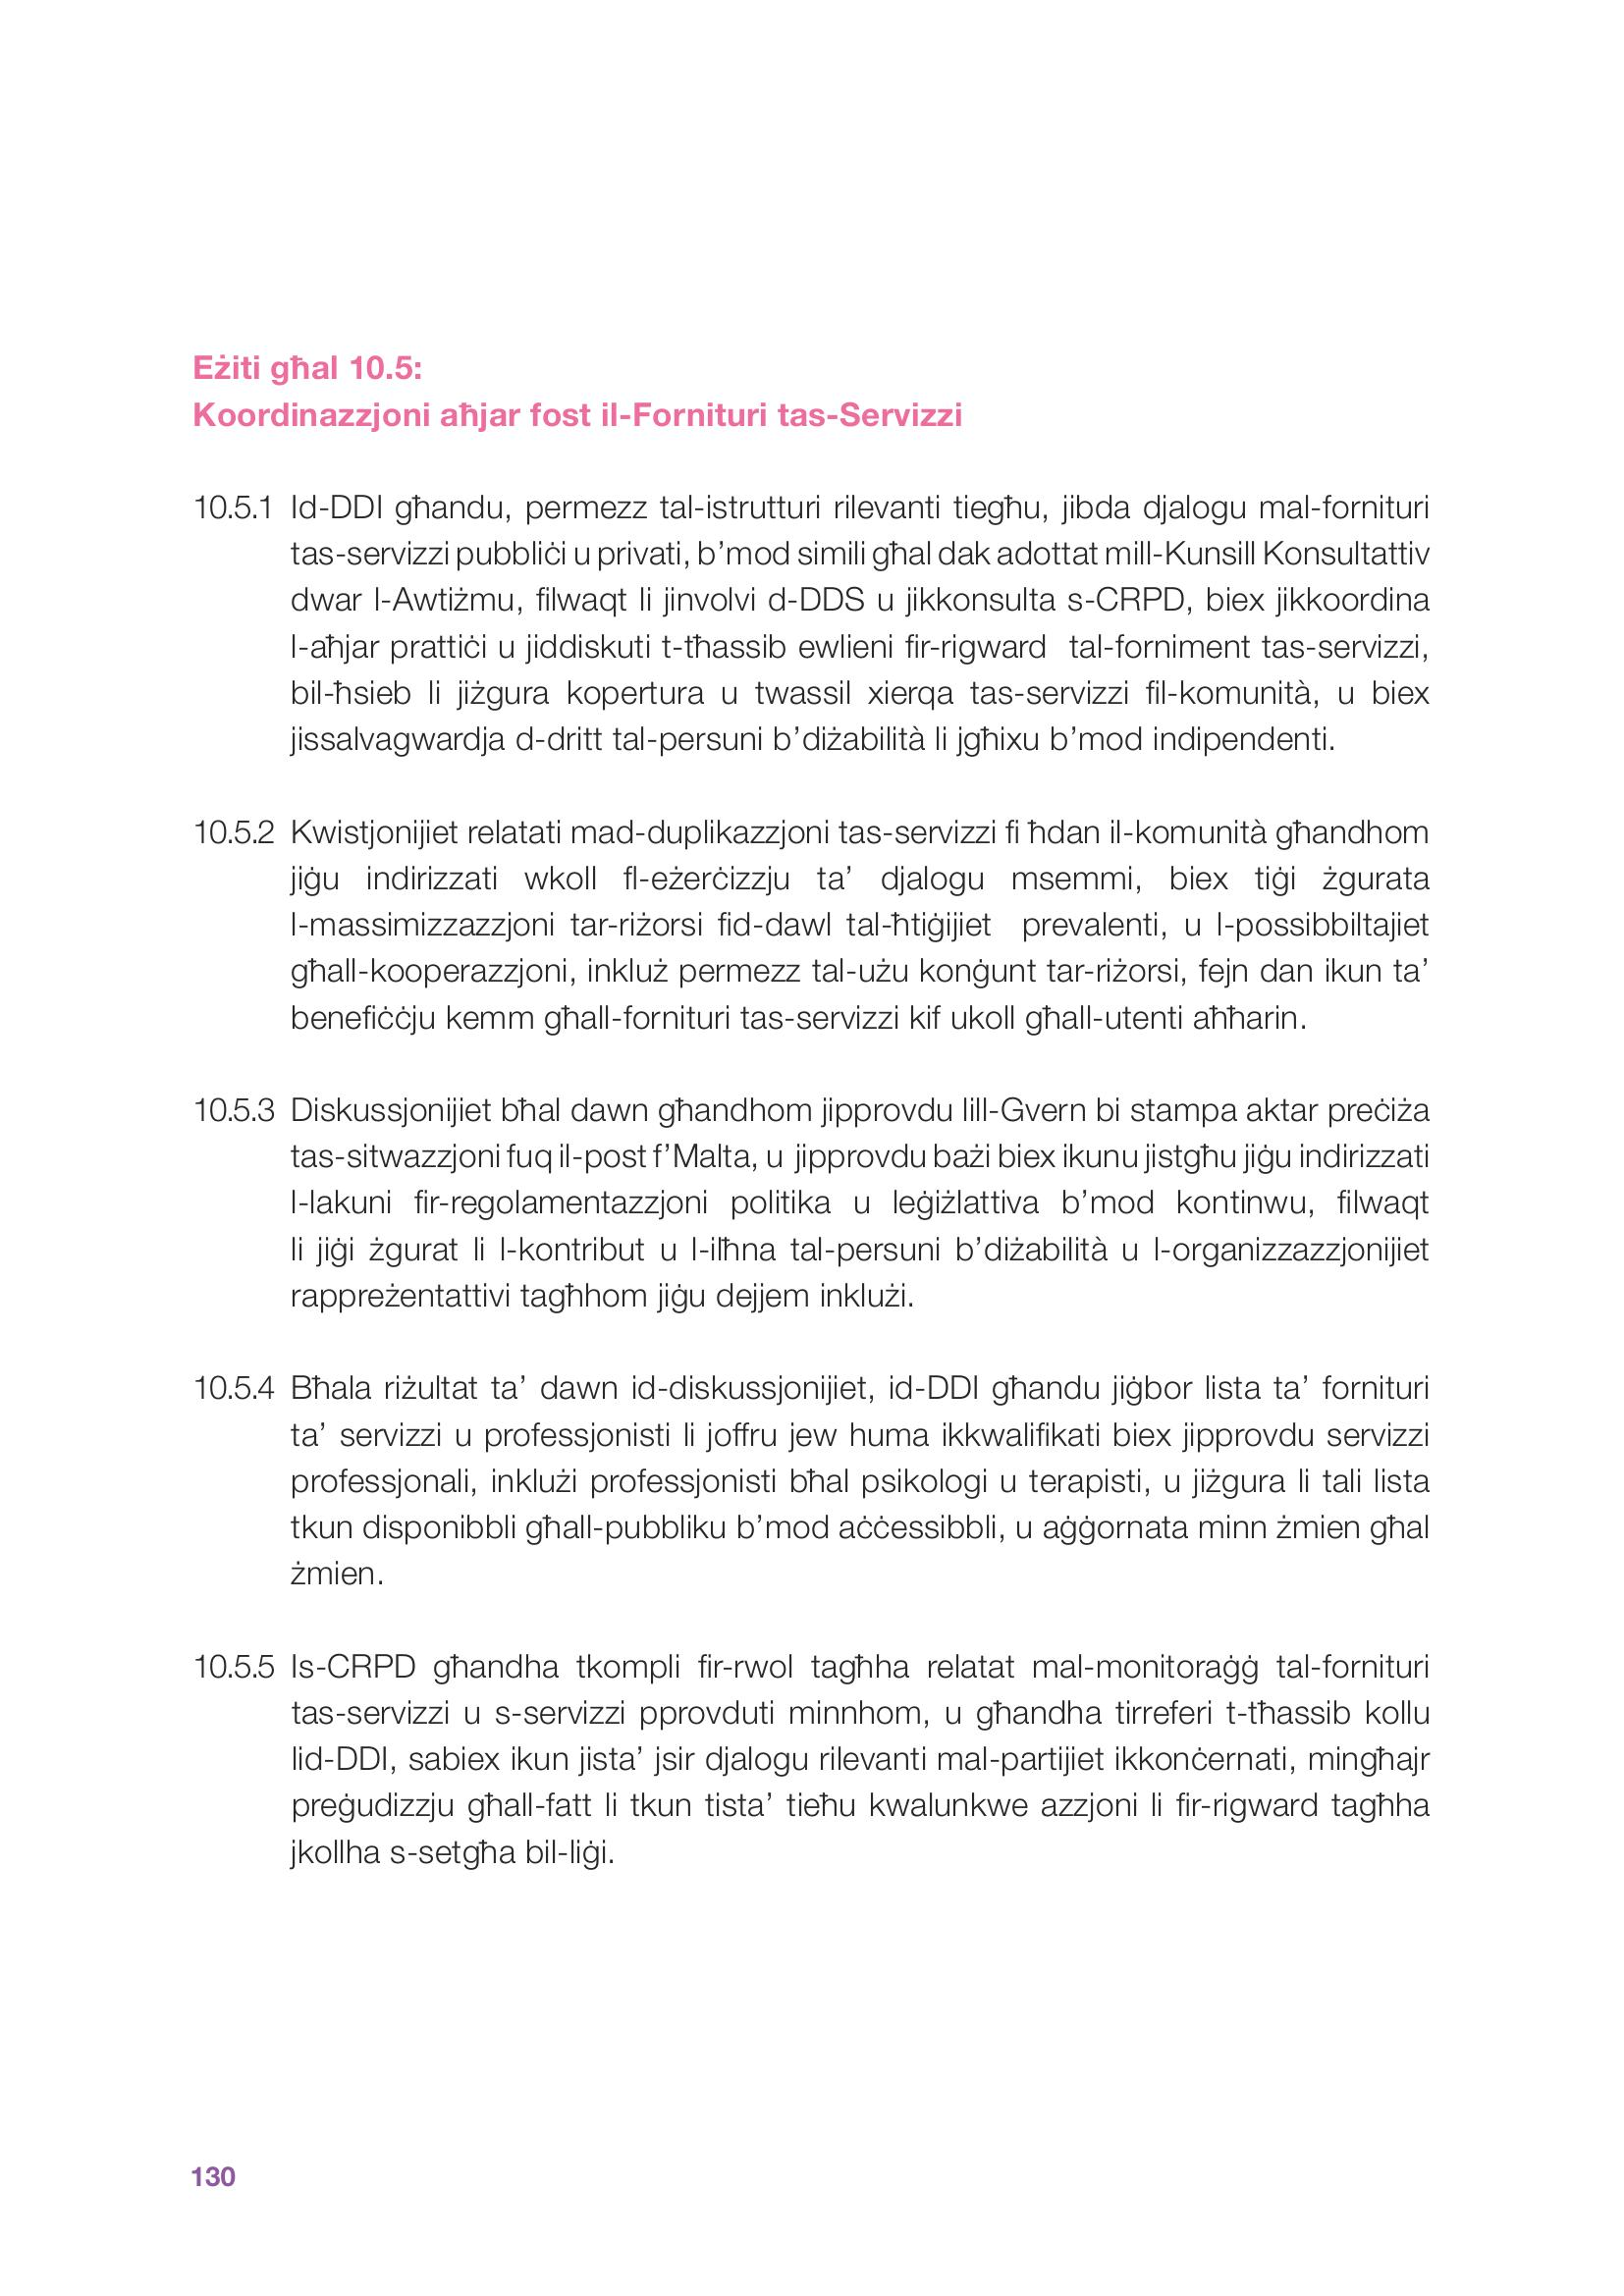text: (165, 339, 1466, 1960)
